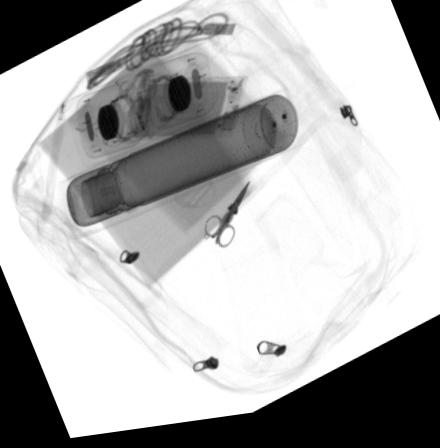Powerbank: (123, 78, 246, 144)
Scissors: (202, 185, 249, 255)
